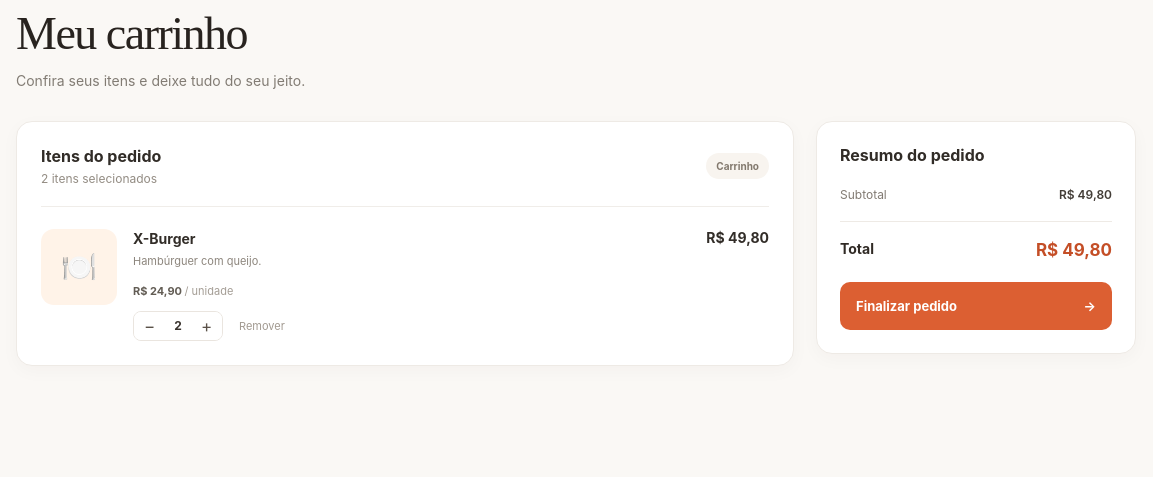
it: Carrinho › não envia outro checkout enquanto a requisição está em andamento
This screenshot has width=1153, height=477.
Click the button "Finalizar pedido →".
click(907, 306)  # box [840, 282, 1112, 330]
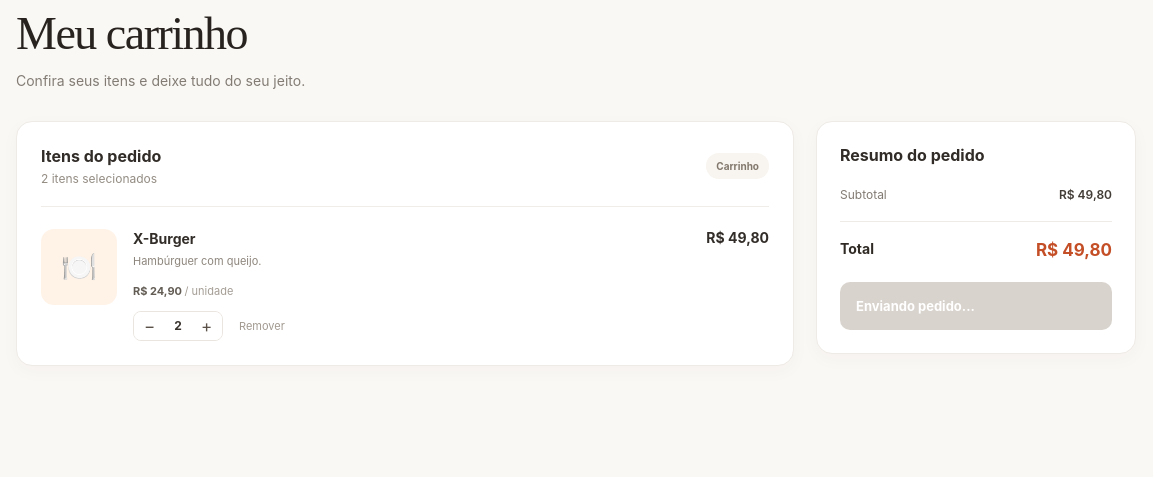
Click the button "Enviando pedido...".
click(976, 306)  # box [840, 282, 1112, 330]
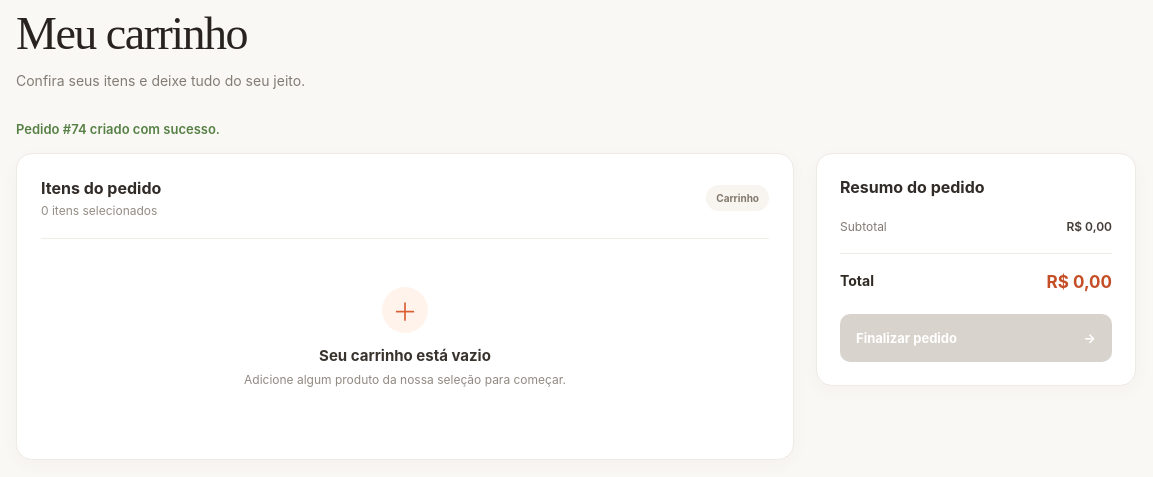
Now the message reads "Pedido #74 criado com sucesso.", box [16, 121, 220, 137]
